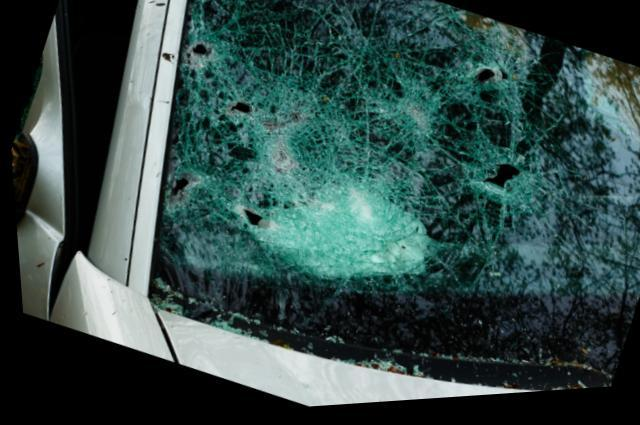glass shatter: (142, 0, 640, 398)
